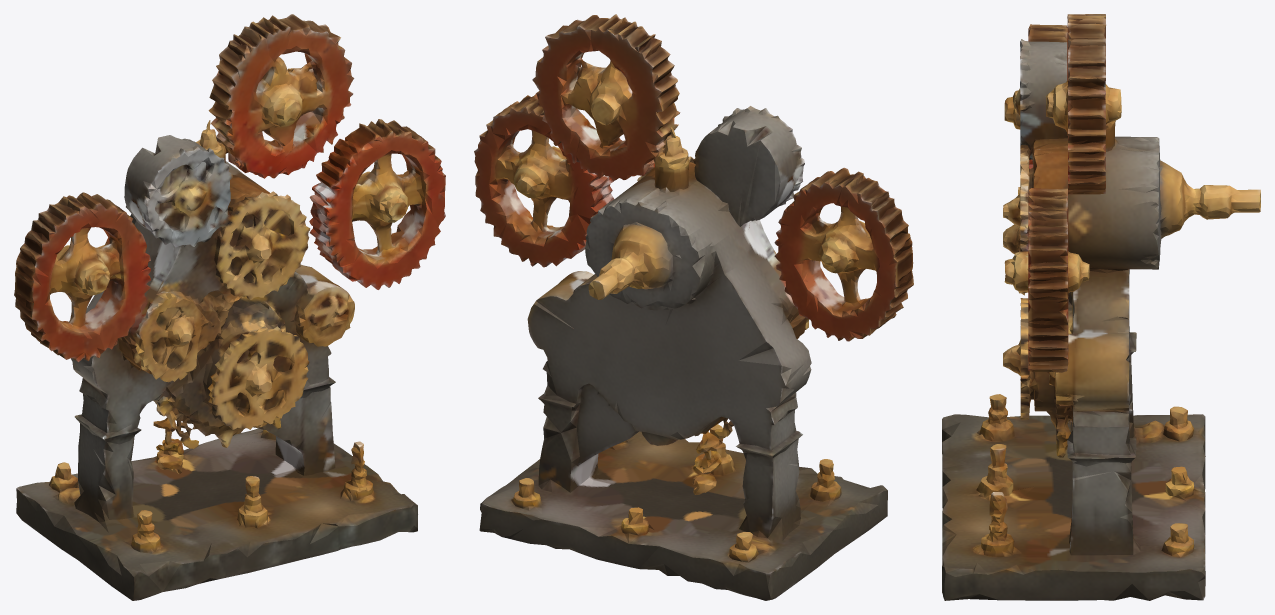
Rendered from revolution_gears.glb.
3 views of the same model, side by side, from view 1: azimuth 30°, elevation 25°; view 2: azimuth 150°, elevation 25°; view 3: azimuth 270°, elevation 25° (orthographic). The views are drawn at different scales.
Parts seen in each view (by area): view 1: revolution_gears; view 2: revolution_gears; view 3: revolution_gears.
Boxes of the visible parts, x1,y1,x2,y2 form: revolution_gears: (14,14,445,600); revolution_gears: (474,14,913,600); revolution_gears: (942,14,1260,600).
Size of the model in its own units: 1.71 by 1.89 by 1.02.
1 material, 1 textured.
